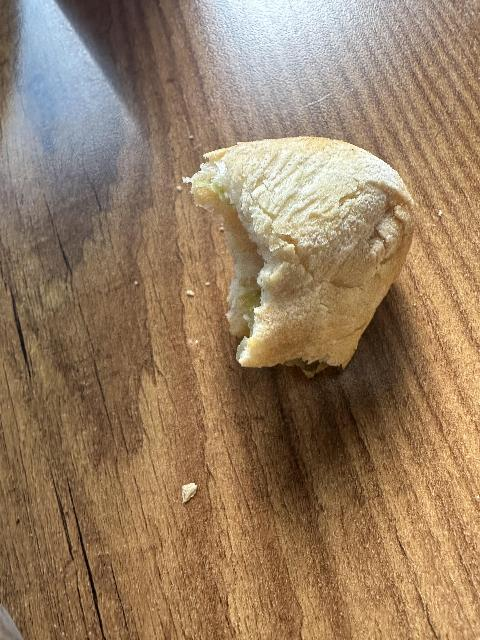Organik: (183, 121, 429, 378), (175, 481, 205, 505), (133, 275, 144, 292)
